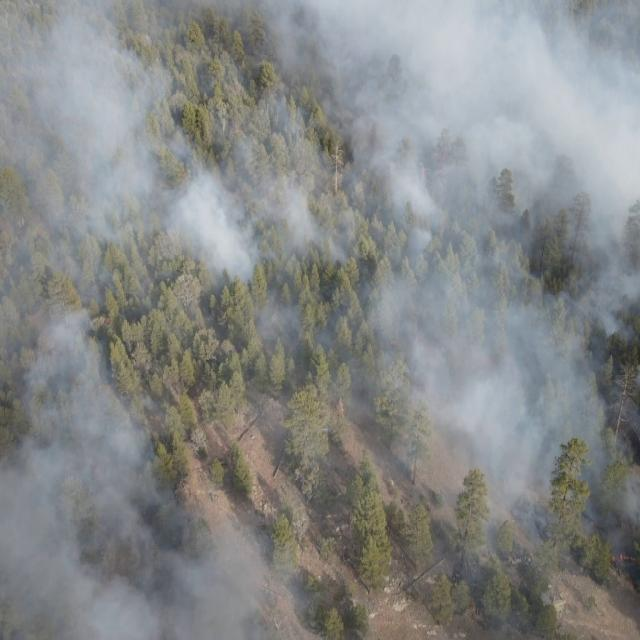fire: (610, 553, 636, 565), (103, 316, 112, 326)
smoke: (0, 0, 640, 300), (252, 299, 640, 435), (0, 304, 155, 640), (384, 434, 640, 606), (155, 486, 291, 640)
